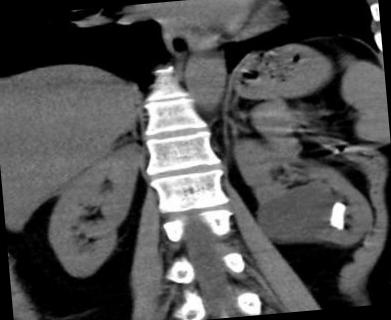Tas_Var: (326, 198, 353, 235)
